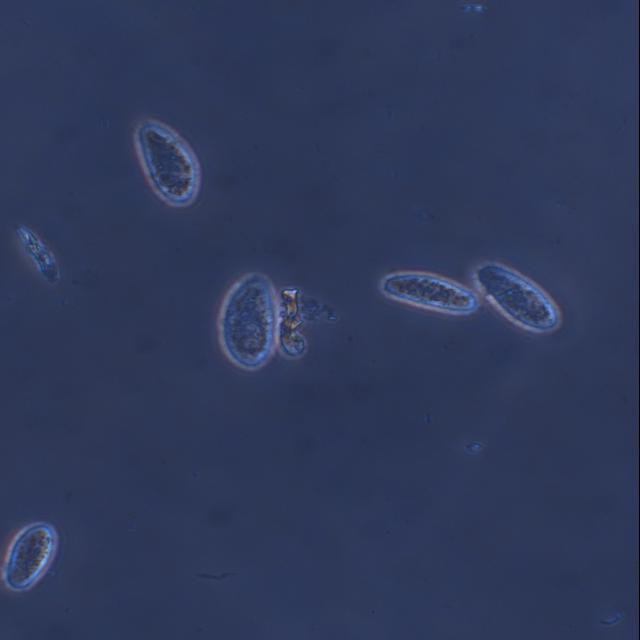Cell: (117, 106, 215, 216), (462, 250, 571, 343), (216, 272, 280, 374), (0, 511, 68, 600), (376, 265, 484, 320)
